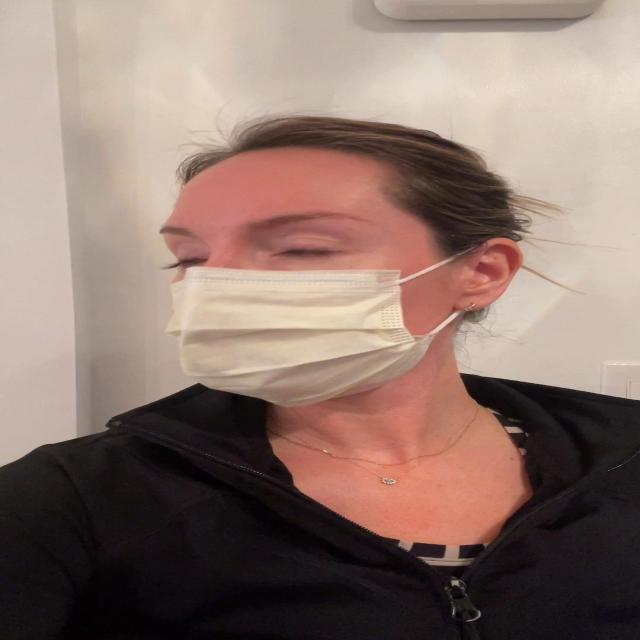no hat: (127, 128, 544, 434)
